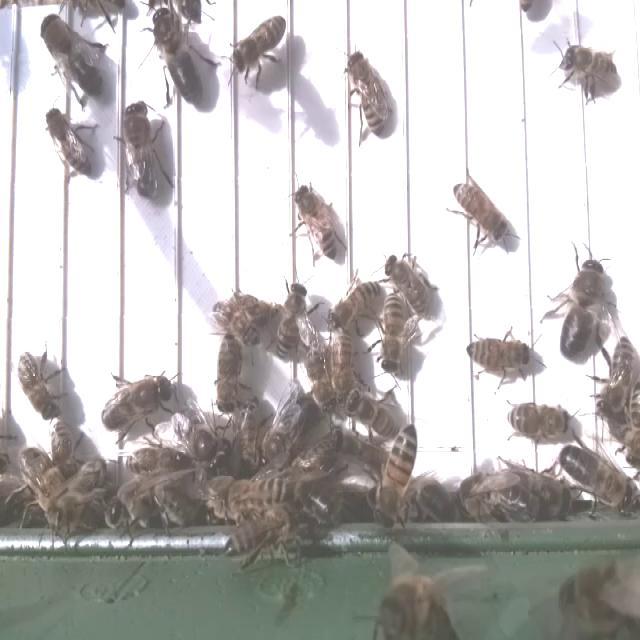Drone: (150, 4, 205, 108), (557, 442, 639, 511), (40, 11, 104, 99), (558, 255, 607, 363), (98, 369, 174, 435), (122, 98, 160, 202)
Worker: (373, 420, 421, 525), (451, 178, 511, 251), (346, 44, 389, 141), (226, 13, 289, 79), (14, 345, 59, 428), (44, 106, 94, 180), (292, 182, 338, 262), (596, 336, 636, 424), (464, 329, 534, 378), (323, 276, 381, 332), (383, 249, 432, 315), (275, 274, 309, 364), (504, 396, 572, 438), (213, 333, 245, 415), (381, 292, 410, 375)
